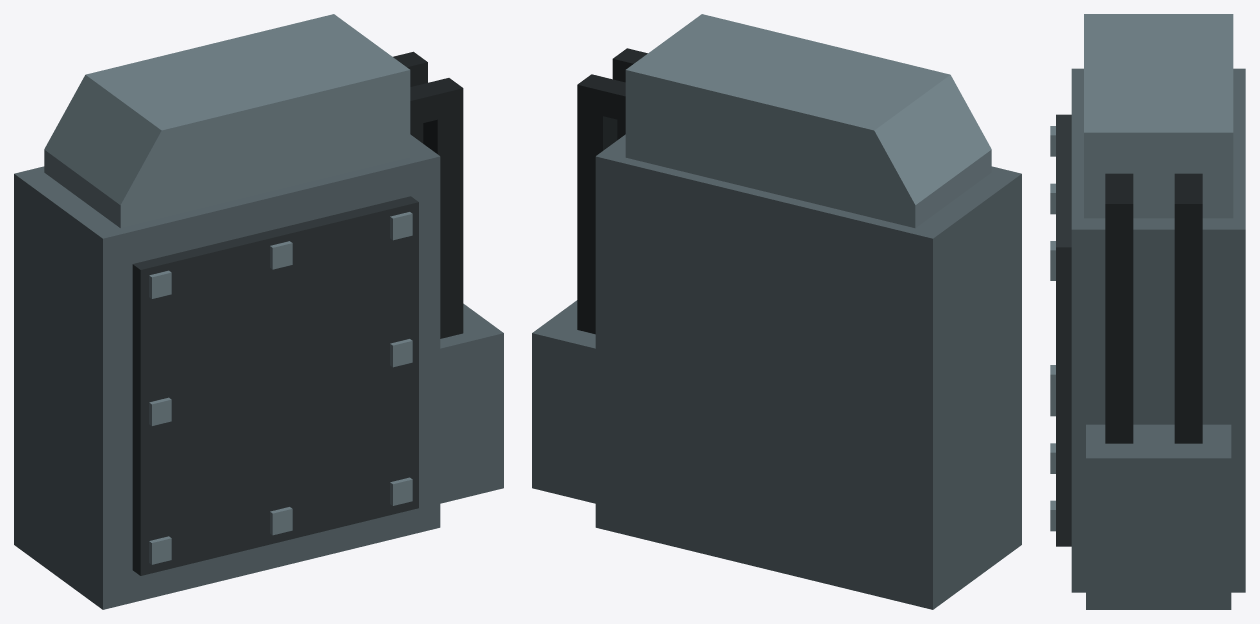
File: Border 05.FBX
The picture shows the model from 3 angles, left to right: view 1: azimuth 30°, elevation 25°; view 2: azimuth 150°, elevation 25°; view 3: azimuth 270°, elevation 25°; orthographic projection. The views are drawn at different scales.
Visible parts, largest first — view 1: Border 05; view 2: Border 05; view 3: Border 05.
Part boxes in pixels (x1=…): Border 05: x1=14, y1=14, x2=503, y2=609; Border 05: x1=532, y1=14, x2=1021, y2=609; Border 05: x1=1050, y1=14, x2=1245, y2=609.
Size of the model in its own units: 452 by 485 by 191.
